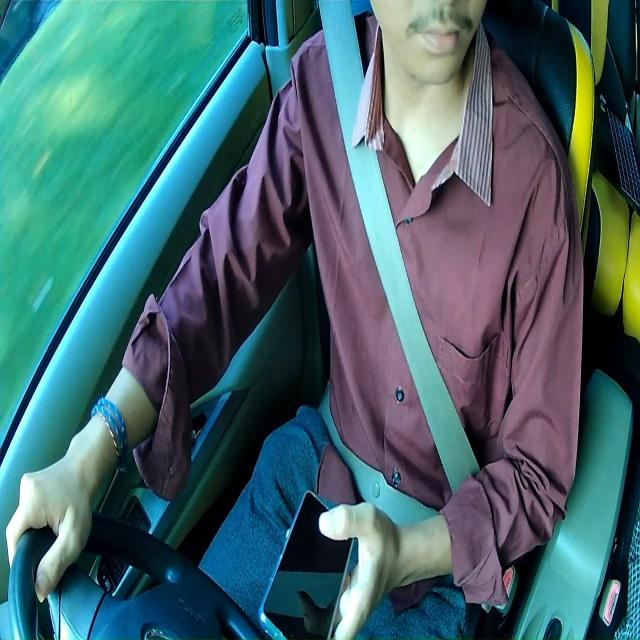phone: (257, 487, 353, 638)
